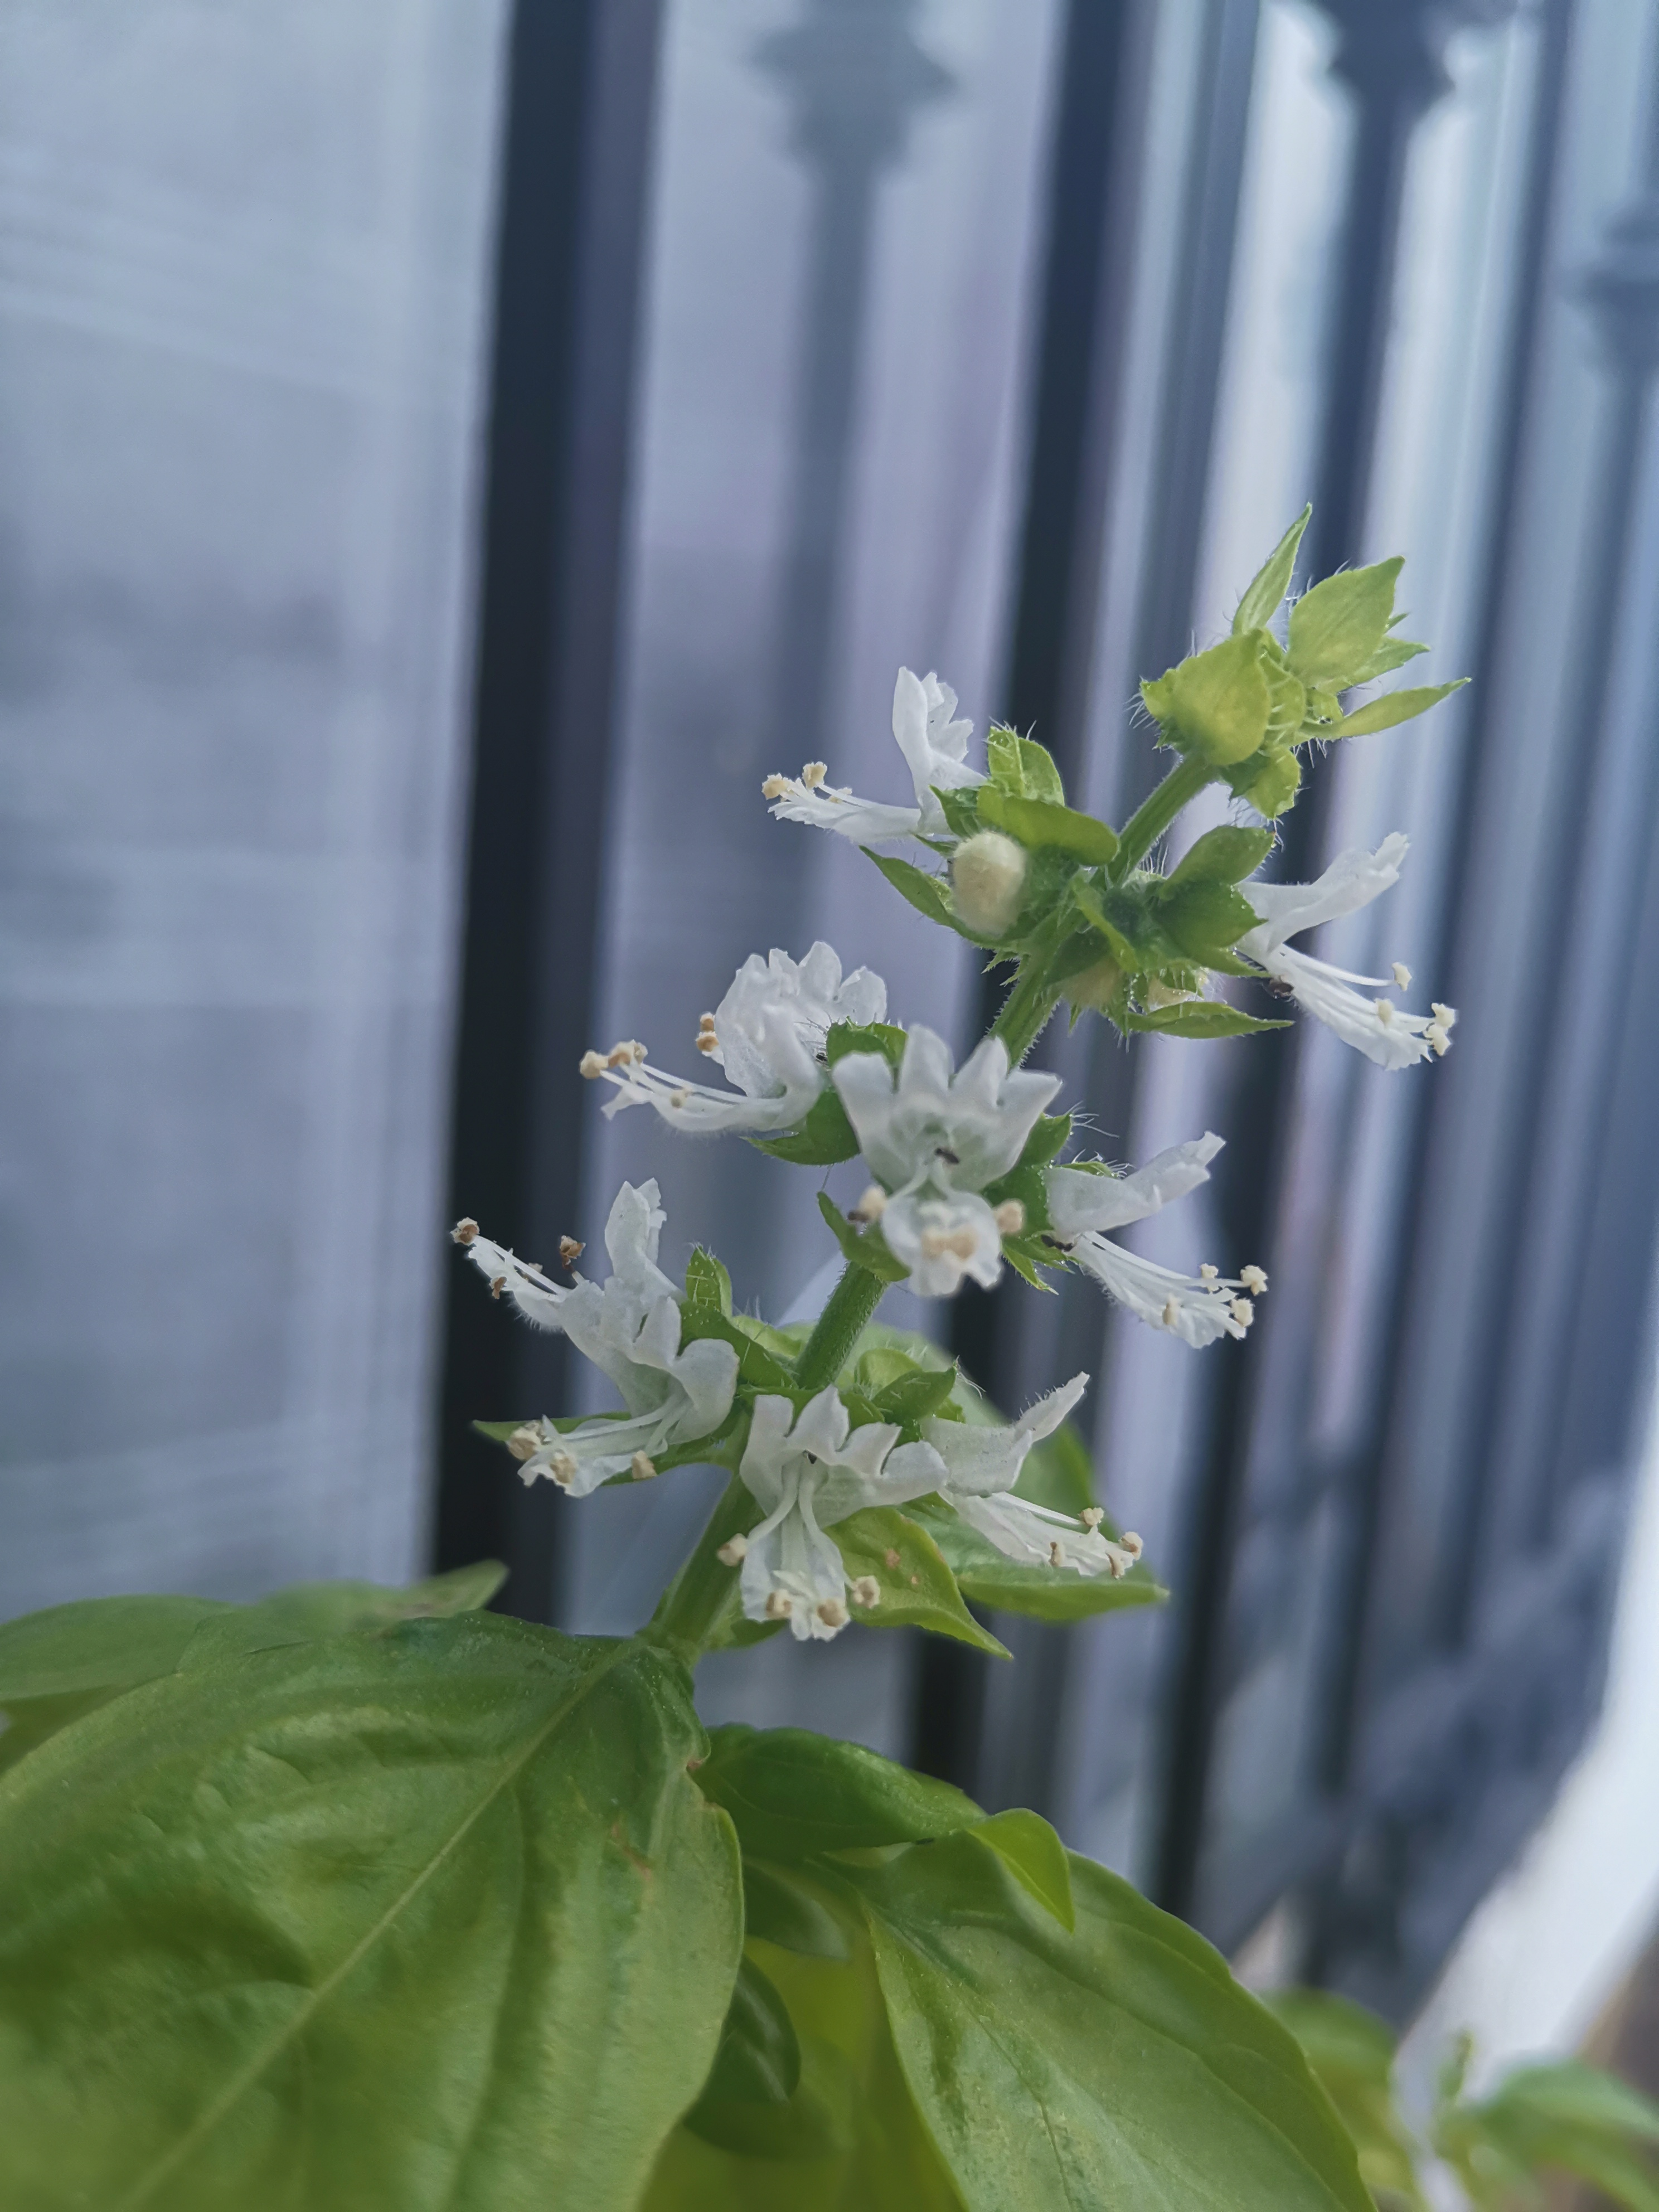Basil_healthy: (17, 1615, 749, 2207), (795, 1778, 1389, 2212)
